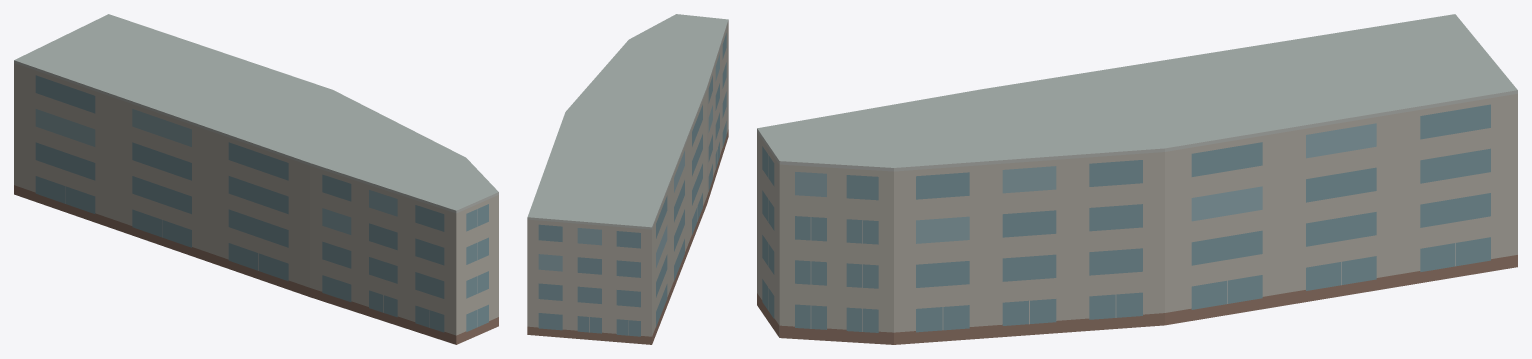
The model's file is residential-1da31cbd-cffb-4bf9-86e9-50c2ca37e06a.glb.
3 renders of one model, left to right at view 1: azimuth 30°, elevation 25°; view 2: azimuth 150°, elevation 25°; view 3: azimuth 270°, elevation 25°, orthographic. The views are drawn at different scales.
Visible parts, largest first — view 1: residential-1da31cbd-cffb-4bf9-86e9-50c2ca37e06a.tmp; view 2: residential-1da31cbd-cffb-4bf9-86e9-50c2ca37e06a.tmp; view 3: residential-1da31cbd-cffb-4bf9-86e9-50c2ca37e06a.tmp.
Boxes of the visible parts, x1,y1,x2,y2 form: residential-1da31cbd-cffb-4bf9-86e9-50c2ca37e06a.tmp: [14, 14, 498, 344]; residential-1da31cbd-cffb-4bf9-86e9-50c2ca37e06a.tmp: [527, 14, 728, 344]; residential-1da31cbd-cffb-4bf9-86e9-50c2ca37e06a.tmp: [757, 14, 1517, 344].
Bounding box in the file's own units: 22.78 × 12.2 × 47.56.
